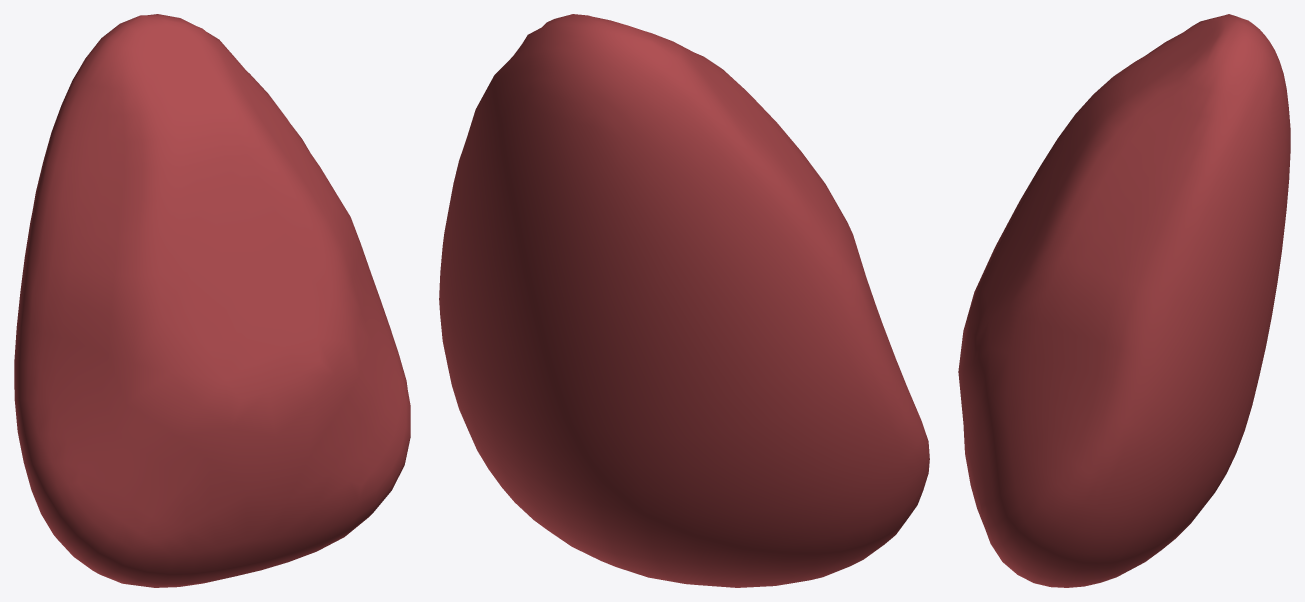
The model's file is bodyGem_low.fbx.
3 renders of one model, left to right at view 1: azimuth 30°, elevation 25°; view 2: azimuth 150°, elevation 25°; view 3: azimuth 270°, elevation 25°, orthographic. The views are drawn at different scales.
Visible parts, largest first — view 1: body_gem_low; view 2: body_gem_low; view 3: body_gem_low.
Boxes of the visible parts, x1,y1,x2,y2 form: body_gem_low: [14, 14, 410, 587]; body_gem_low: [439, 14, 929, 587]; body_gem_low: [958, 14, 1290, 587].
Bounding box in the file's own units: 0.8393 × 1.07 × 0.6118.
